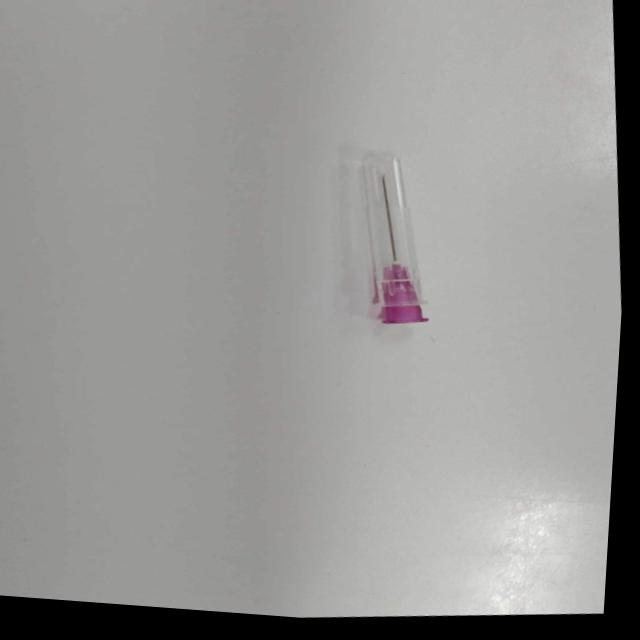General: (378, 261, 429, 325)
Pathological: (3, 1, 622, 618)
Sharps: (360, 151, 430, 324)
